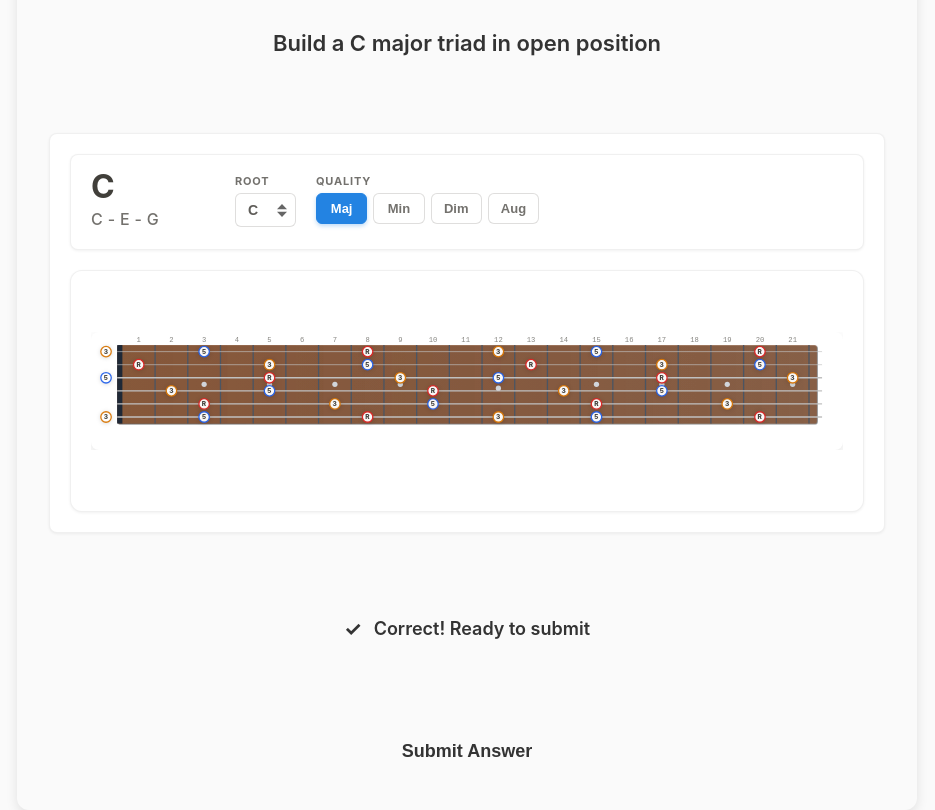
Test: ConstructionMode Component › User Interactions › shows correct feedback for right construction
This screenshot has width=935, height=810.
(page scrolled)
Expected: the text "Correct! Ready to submit" is shown, [374,615,590,644]
What coordinates should you click on to do the following:
click the button "Submit Answer"
I would click on:
 (467, 752)
Its box is [370,725,564,778].
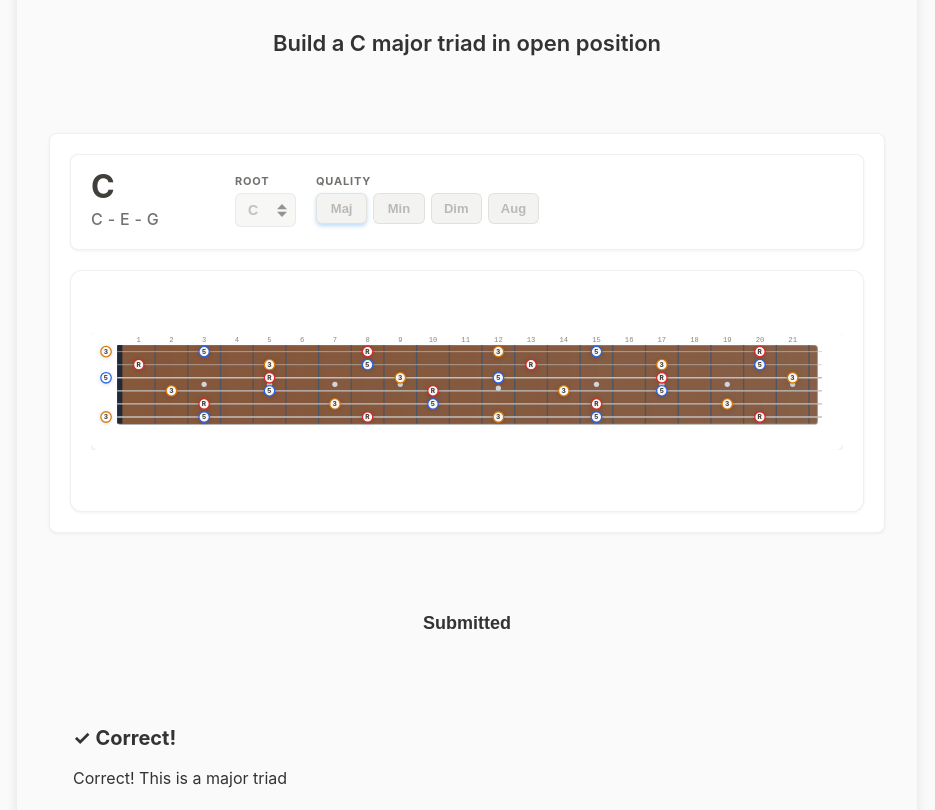
Expected: the text "✓ Correct!" is shown, [73,722,176,754]
Expected: the message "✓ Correct! Correct! This is a major triad" is shown, [73,726,287,788]
